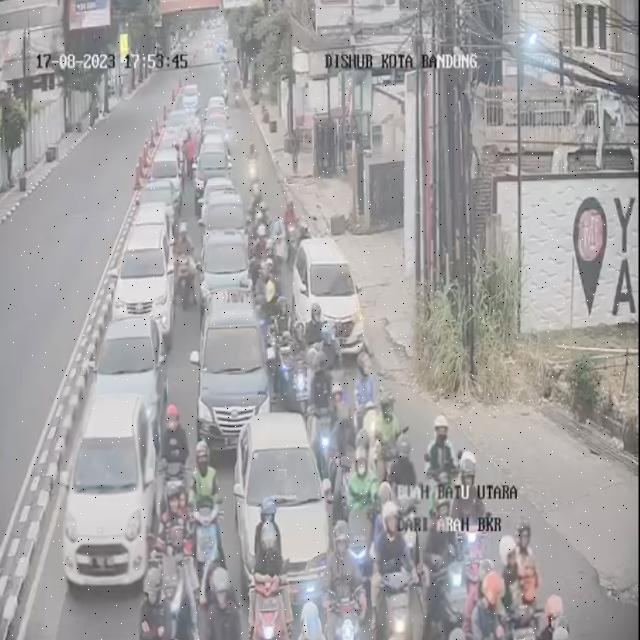cars: (234, 412, 339, 640), (60, 387, 153, 591), (194, 286, 268, 448), (97, 312, 167, 437), (297, 236, 365, 357), (116, 217, 178, 346), (197, 228, 247, 315), (203, 187, 248, 257), (197, 142, 232, 194), (142, 179, 178, 225), (153, 148, 183, 203), (198, 170, 235, 214), (201, 103, 232, 140), (166, 109, 195, 140), (202, 120, 232, 148)
motorcycle: (149, 475, 196, 639), (343, 412, 381, 586), (372, 499, 416, 638), (250, 513, 296, 639), (423, 484, 460, 640), (183, 442, 220, 596), (502, 516, 545, 639), (448, 457, 490, 568), (161, 402, 192, 544), (424, 416, 458, 519), (462, 558, 504, 640), (200, 571, 246, 640), (268, 295, 298, 394), (391, 437, 423, 528), (307, 350, 333, 457), (256, 256, 281, 362), (350, 332, 380, 420), (325, 367, 354, 456), (530, 596, 577, 640), (302, 302, 330, 374), (376, 392, 401, 472), (174, 223, 194, 306), (282, 197, 304, 269), (252, 222, 272, 284), (250, 197, 270, 249), (247, 181, 269, 226), (248, 143, 260, 195)
